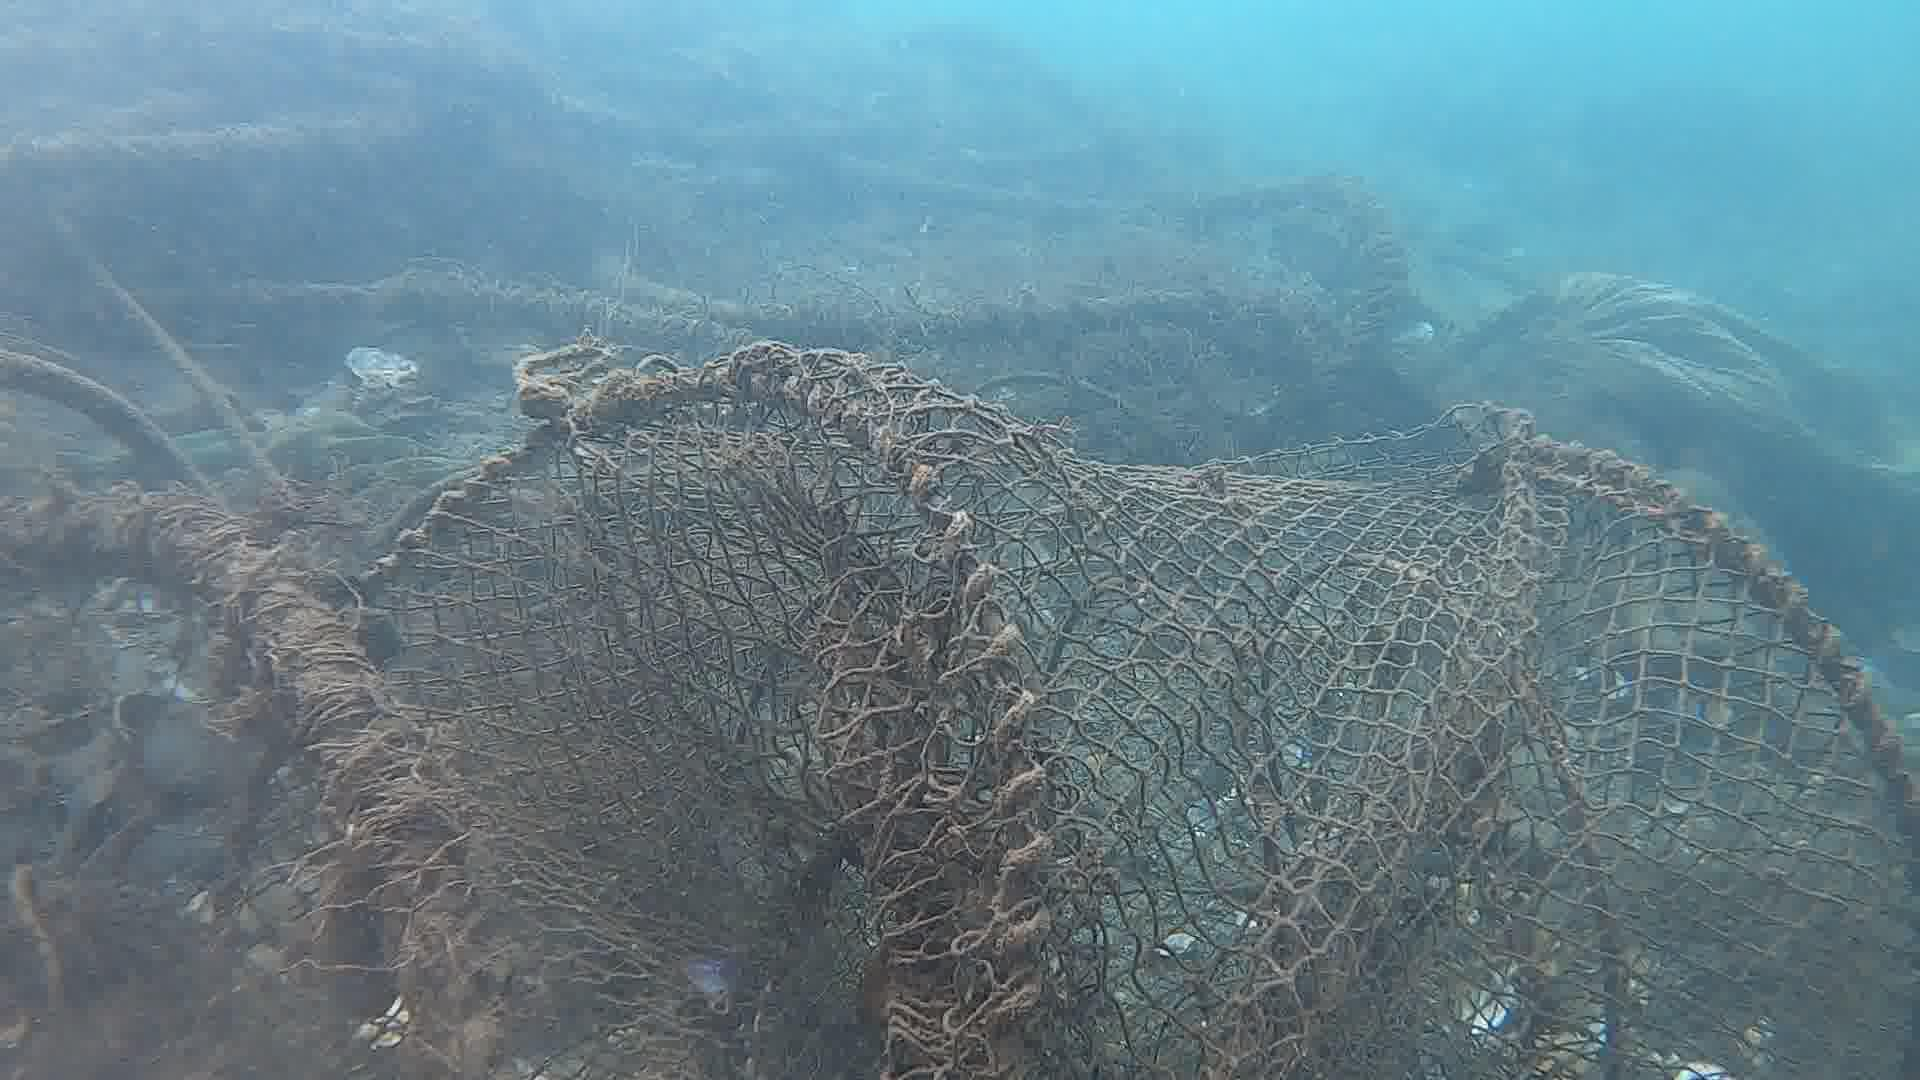spring fish trap: (211, 344, 1920, 1080)
